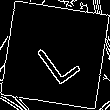L_NW: (27, 25, 83, 85)
